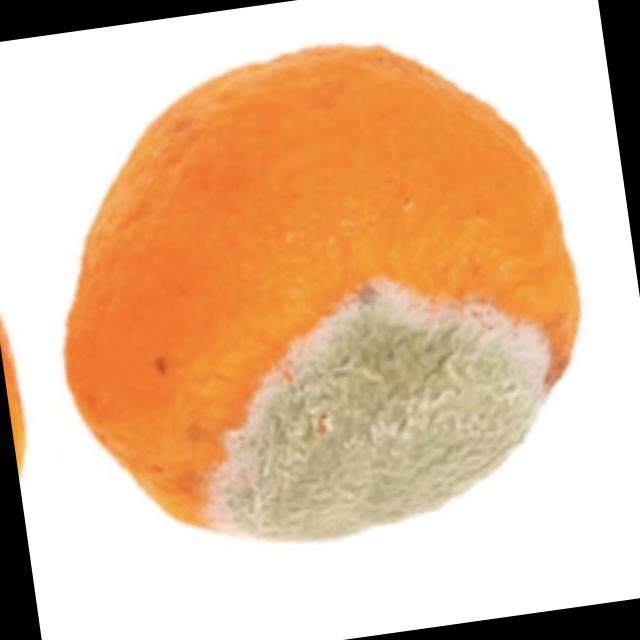rotten-orange: (27, 16, 600, 570)
